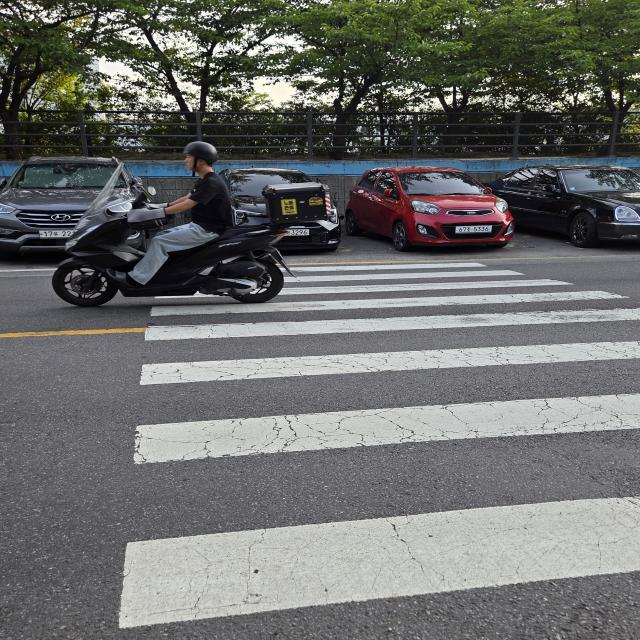bicycle: (1, 155, 160, 260), (346, 165, 509, 251), (487, 163, 640, 247), (216, 166, 341, 252)
motorcycle: (36, 144, 297, 314)
